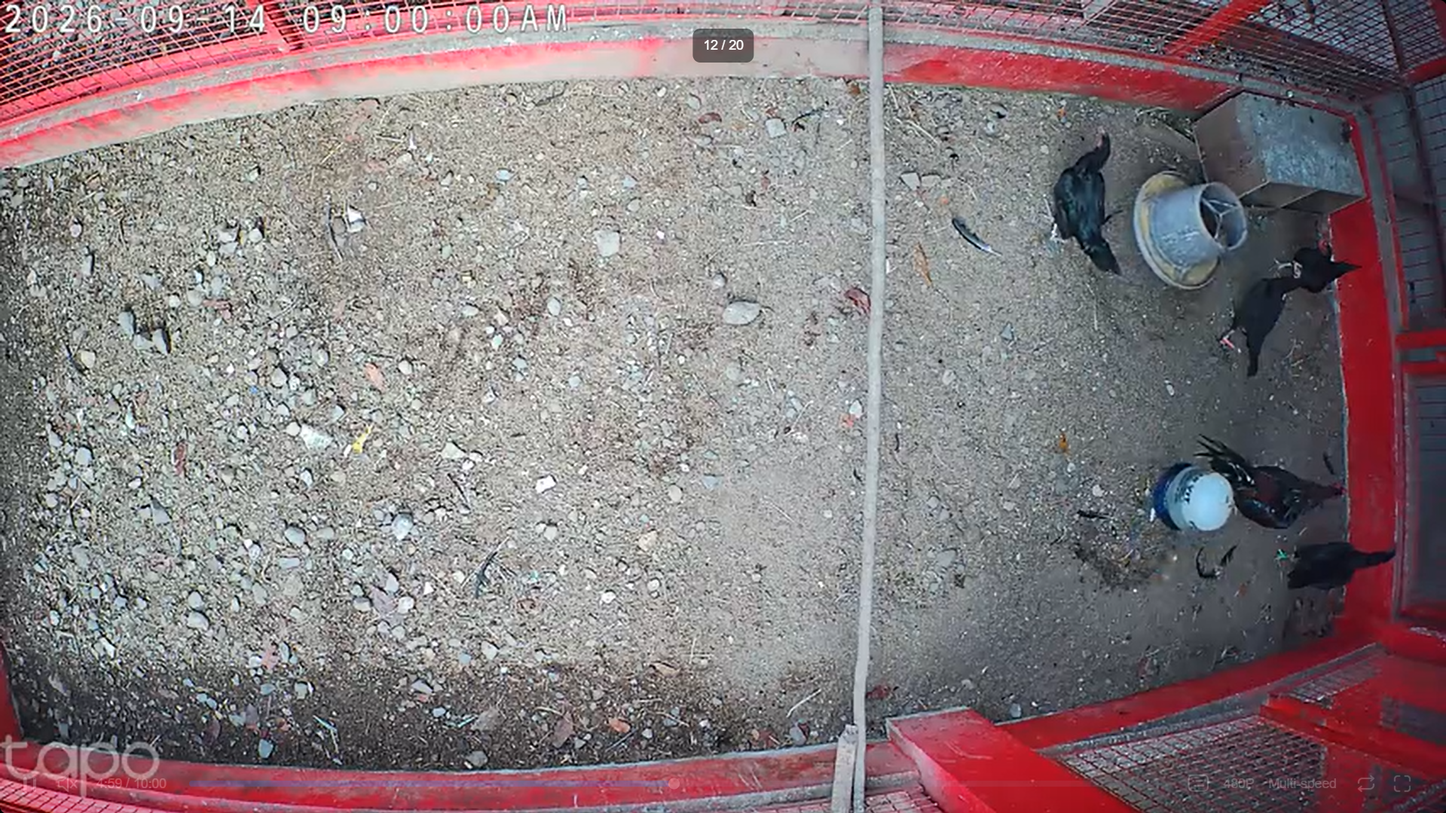Chicken: (1040, 126, 1126, 280), (1217, 270, 1322, 378)
